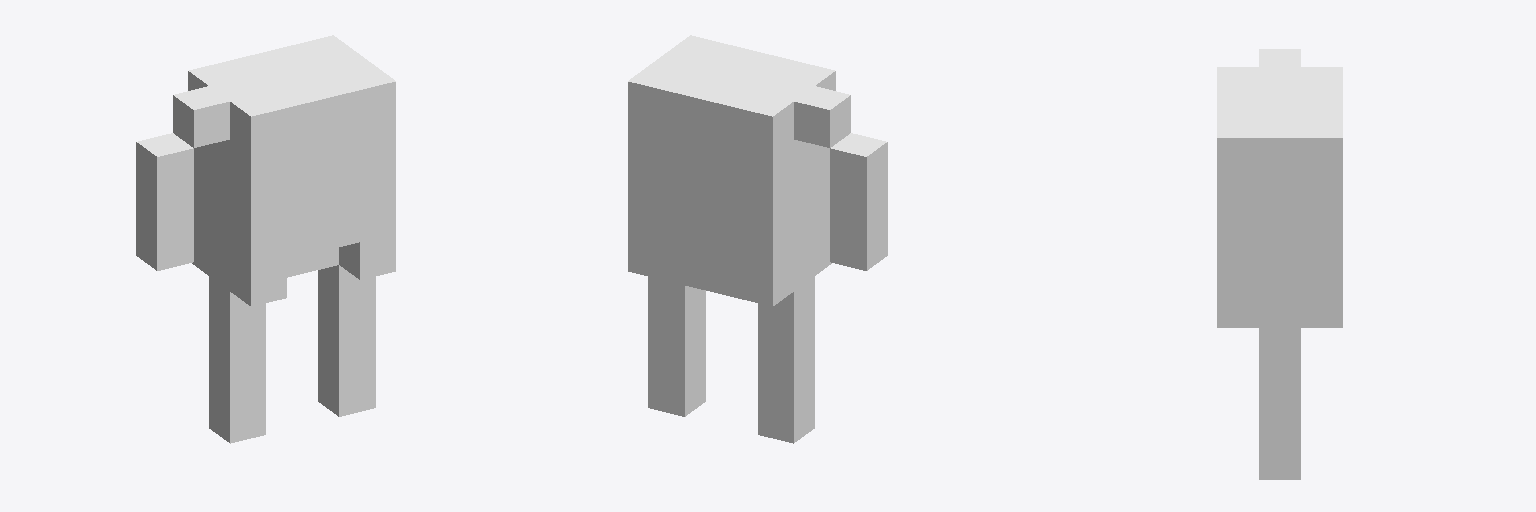
File: scummBarPirateKing03_body.obj
3 views of the same model, side by side, from view 1: azimuth 30°, elevation 25°; view 2: azimuth 150°, elevation 25°; view 3: azimuth 270°, elevation 25° (orthographic).
Bounding box in the file's own units: 6 × 9 × 3.